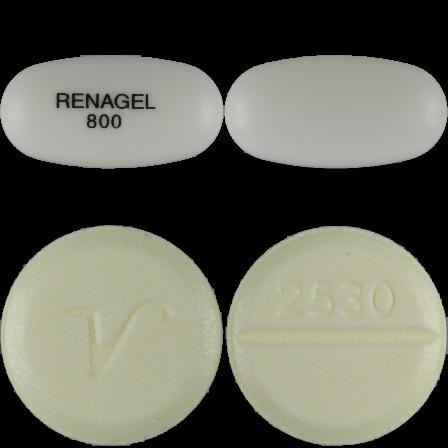67544-656: (0, 0, 224, 224)
